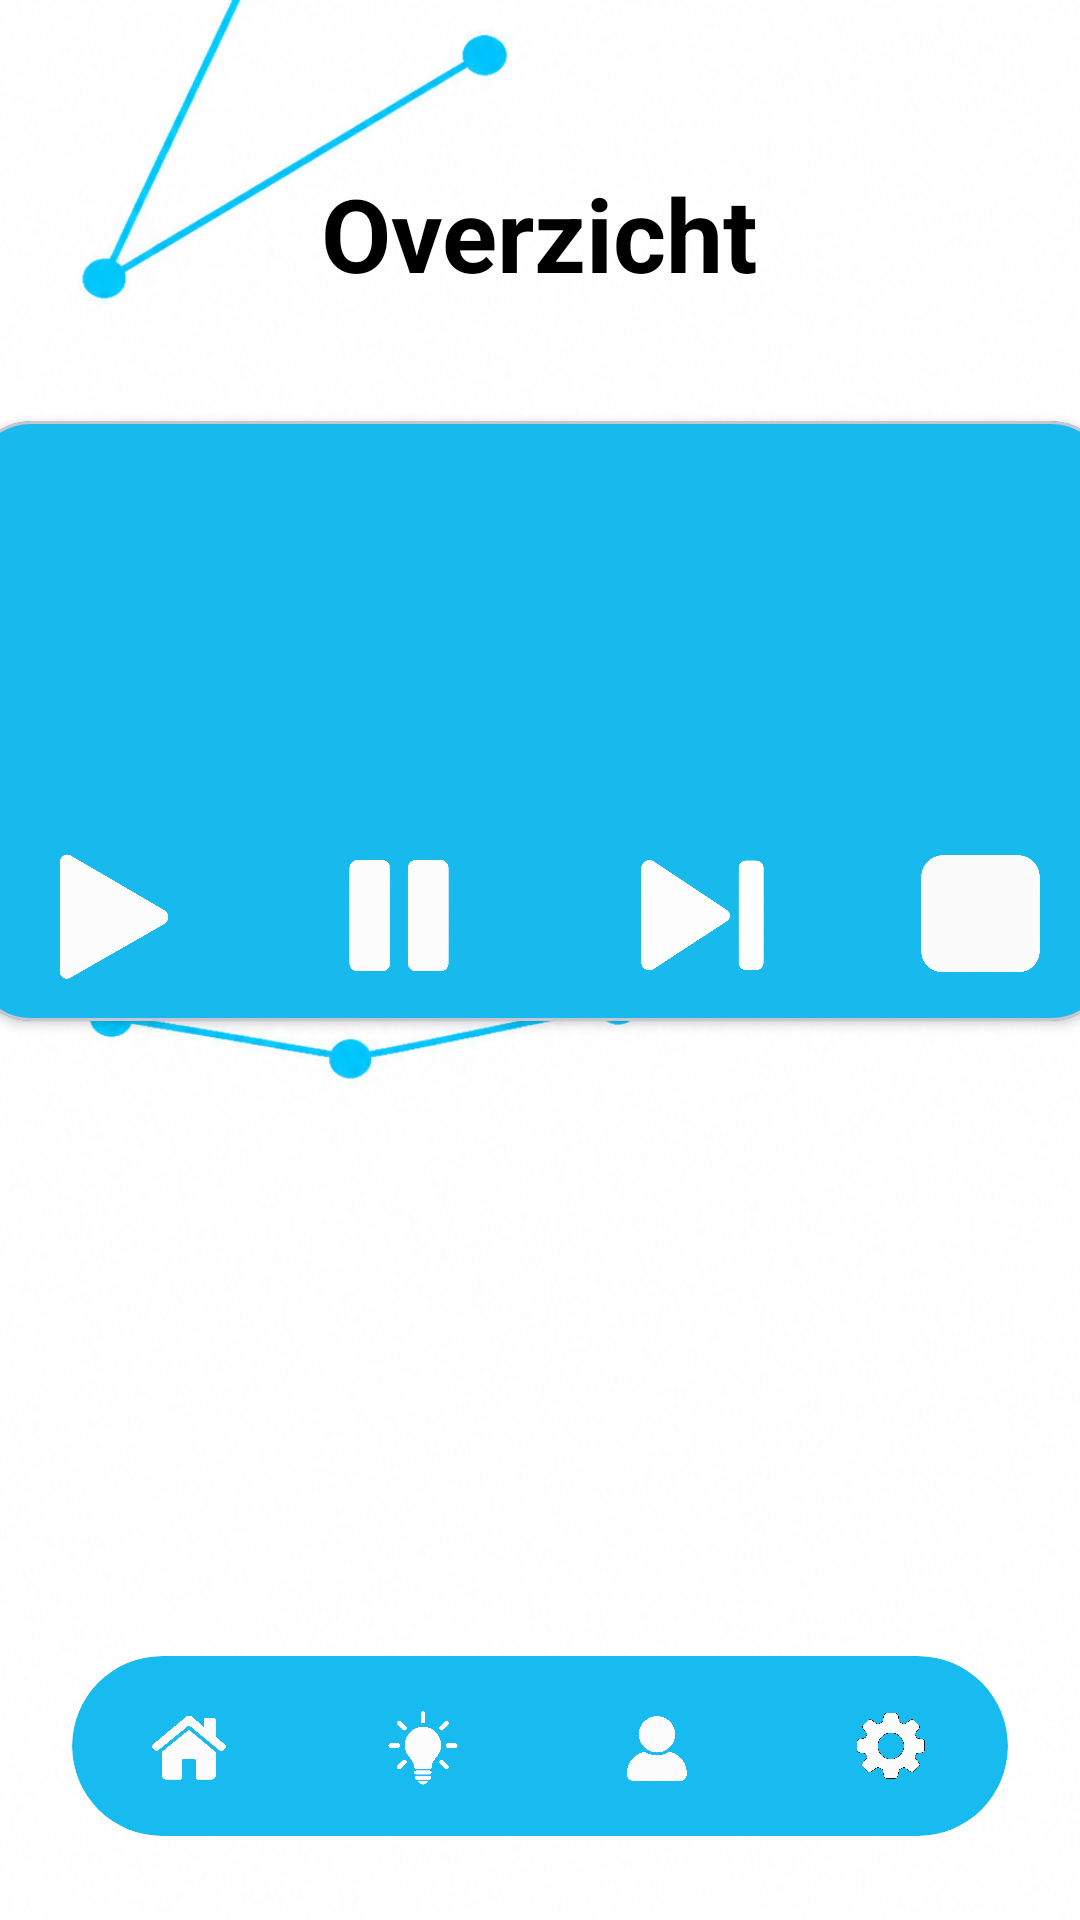

Named icons in this screenshot (1080 × 1920) and their bounding boxes, (x1, y1, x2, y2):
Gebruiker: (627, 1716, 687, 1781)
Home: (152, 1716, 226, 1780)
Instellingen: (857, 1713, 925, 1779)
Lamp: (388, 1711, 458, 1785)
next: (641, 860, 764, 970)
pauze: (349, 860, 449, 971)
